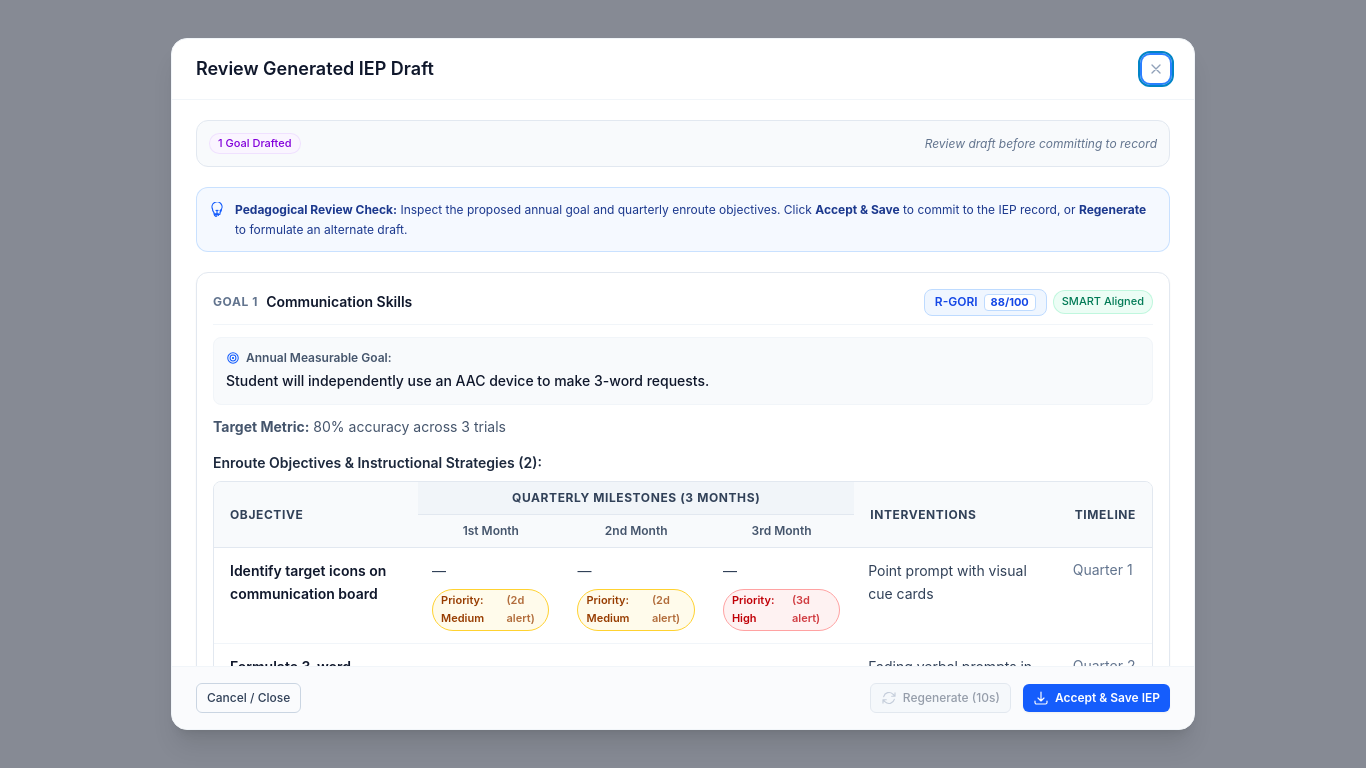
Scenario: IepPostGenerationModal › renders interactive R-GORI compliance button for each goal and opens inspection modal when clicked
This screenshot has width=1366, height=768.
Check: the text "SMART Aligned" is shown, box [1053,290,1153,314]
Check: the text "88/100" is shown, box [984,294,1036,311]
Note: Click R-GORI inspection button to open modal
Click the button "R-GORI 88/100".
click(985, 302)  # box [924,289,1047,316]
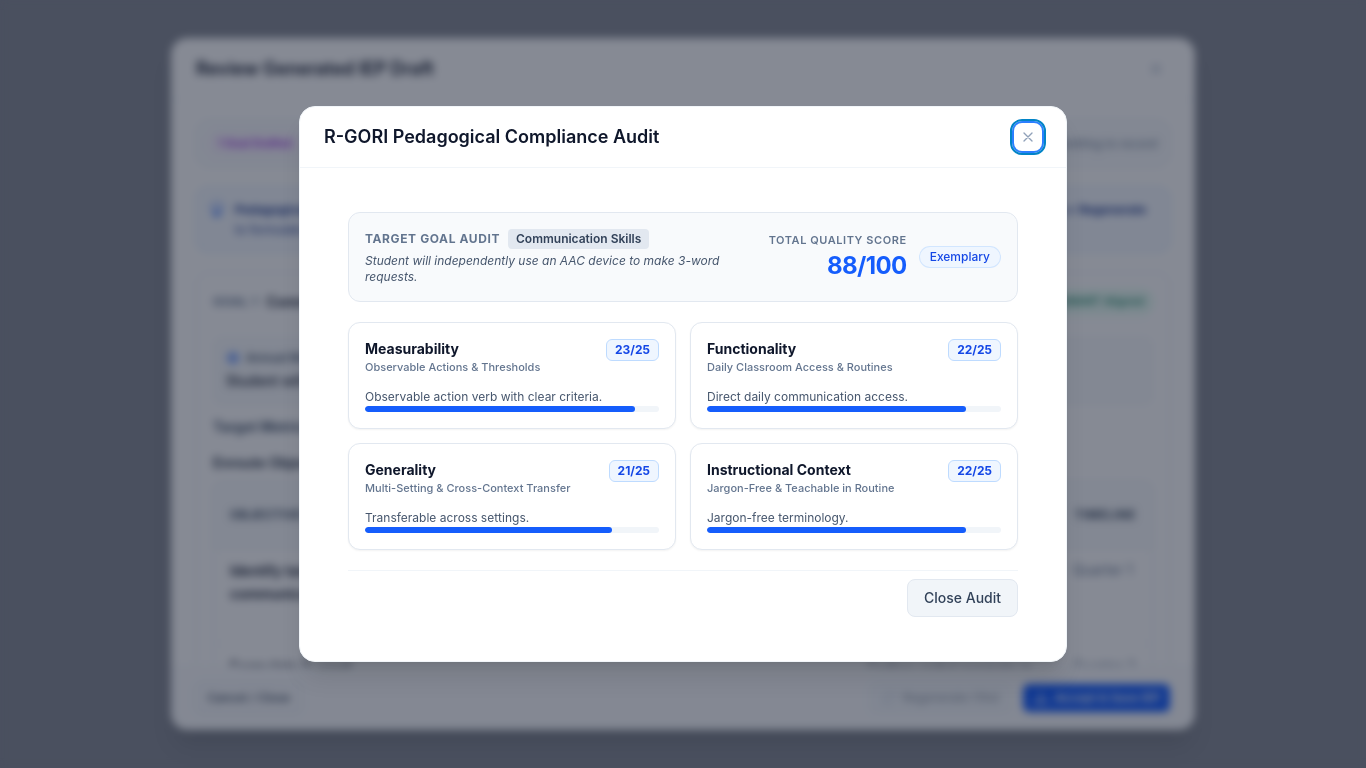
Check: the heading "R-GORI Pedagogical Compliance Audit" is shown, box [324,123,659,151]
Check: the text "Observable action verb with clear criteria." is shown, box [365,388,602,404]
